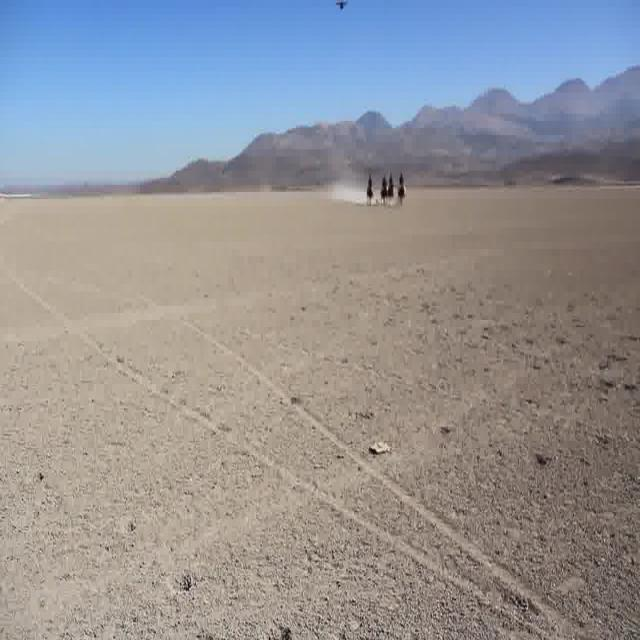drones: (328, 0, 354, 20)
